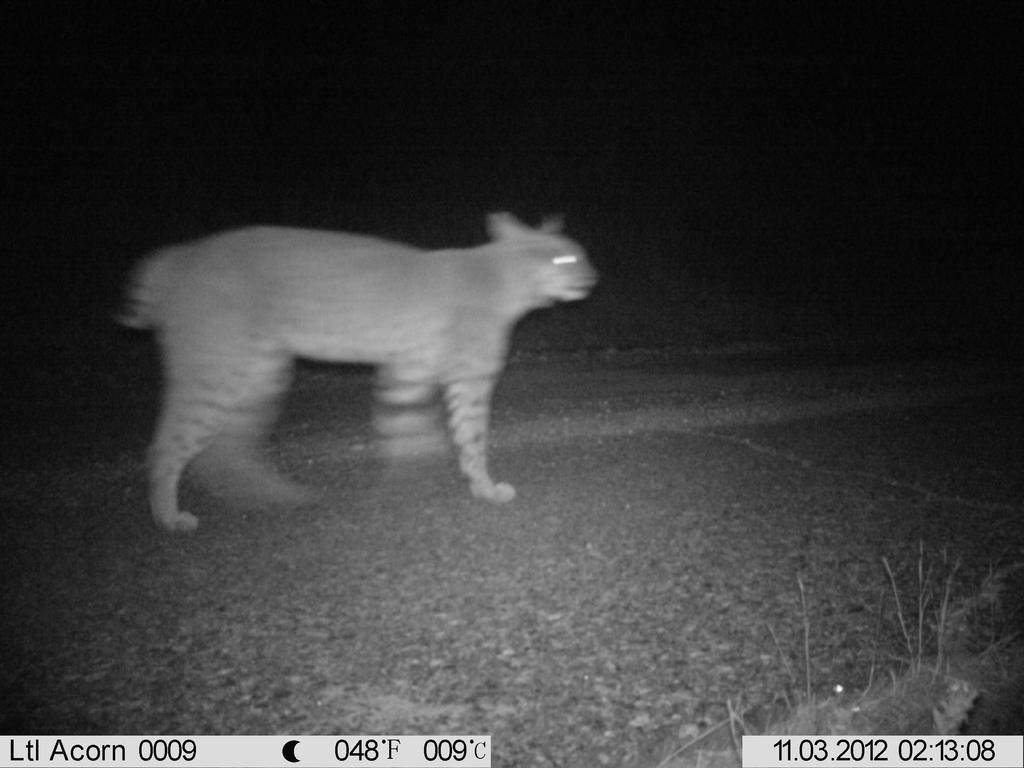bobcat: (109, 205, 606, 535)
